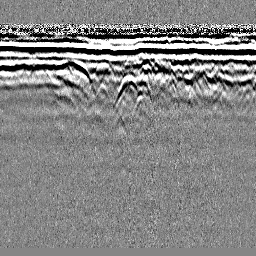cavity: (112, 76, 139, 111)
